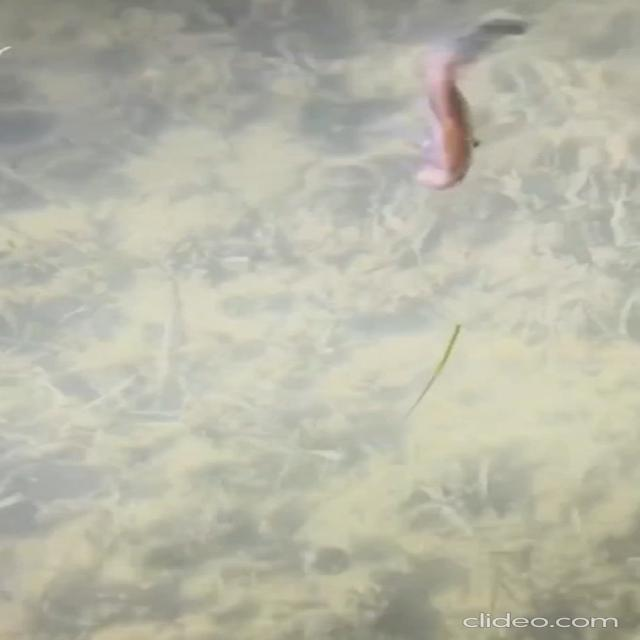fish: (402, 0, 547, 190)
